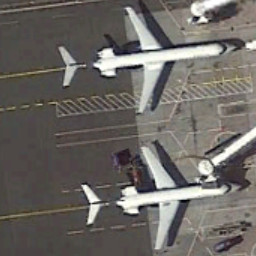Airplane: (43, 3, 243, 124), (79, 138, 244, 252)
